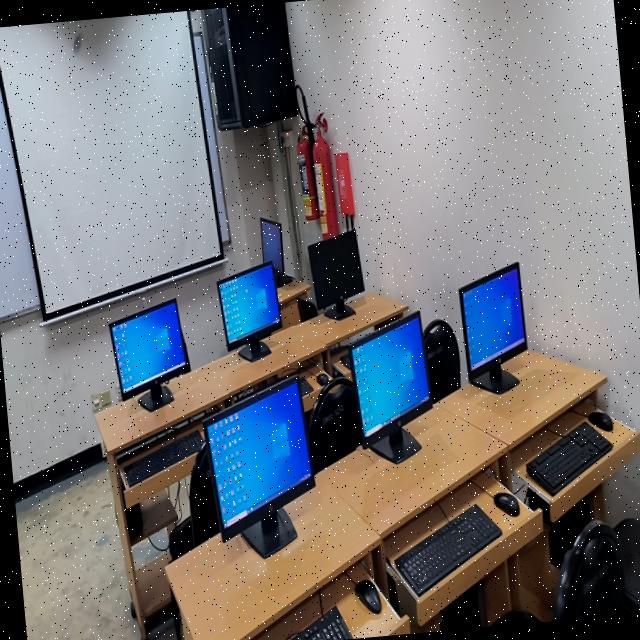Chair: (553, 518, 640, 621), (308, 376, 361, 472), (422, 319, 460, 403), (189, 443, 219, 545), (168, 515, 193, 560)
Fire Extinguisher: (312, 117, 339, 239), (296, 124, 317, 220)
Keyboard: (393, 504, 501, 598), (526, 423, 612, 495), (124, 430, 203, 486), (286, 606, 353, 640)
Monitor: (204, 376, 314, 557), (348, 312, 431, 463), (458, 262, 527, 394), (109, 299, 190, 411), (552, 520, 624, 621), (218, 262, 280, 361), (308, 229, 364, 320), (259, 217, 283, 271), (354, 579, 381, 613), (316, 371, 331, 386)
Mouse: (494, 493, 519, 516), (588, 410, 613, 431)
